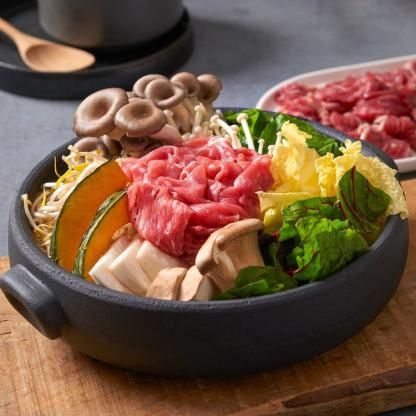beef: (132, 144, 240, 221), (324, 84, 406, 135)
